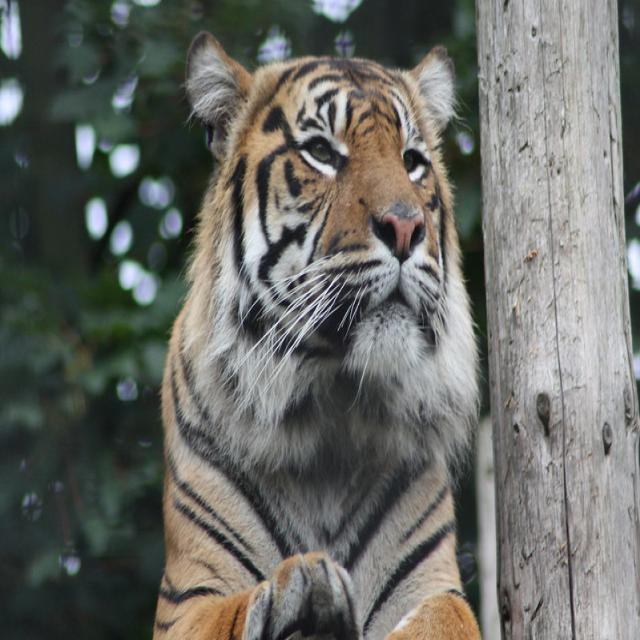Tiger: (149, 26, 480, 639)
